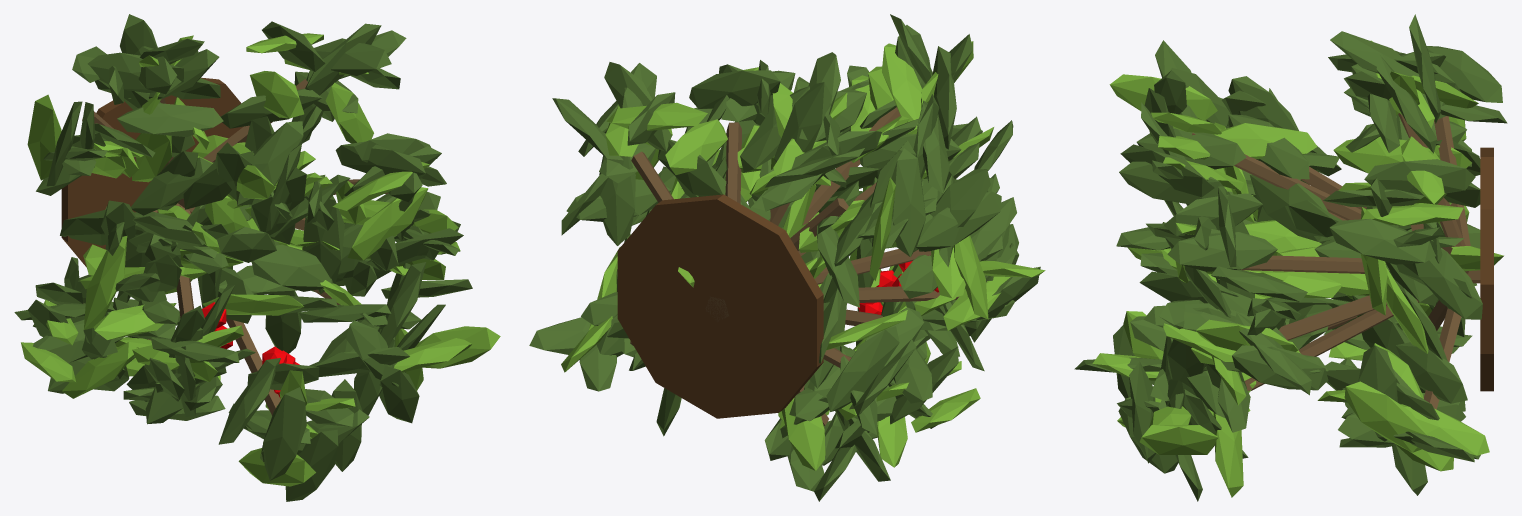
Rendered from 4_mature_partial.obj.
3 views of the same model, side by side, from view 1: azimuth 30°, elevation 25°; view 2: azimuth 150°, elevation 25°; view 3: azimuth 270°, elevation 25° (orthographic). The views are drawn at different scales.
Parts seen in each view (by area): view 1: redberry_4_mature_partial; view 2: redberry_4_mature_partial; view 3: redberry_4_mature_partial.
Boxes of the visible parts, x1,y1,x2,y2 form: redberry_4_mature_partial: [14, 14, 500, 501]; redberry_4_mature_partial: [529, 14, 1045, 501]; redberry_4_mature_partial: [1074, 14, 1507, 501].
Bounding box in the file's own units: 0.6981 × 0.6962 × 0.629.
